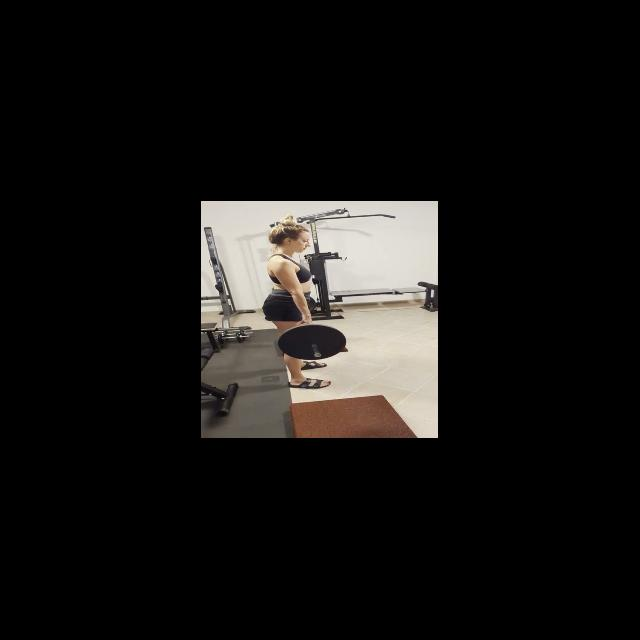barbell: (276, 322, 348, 361)
